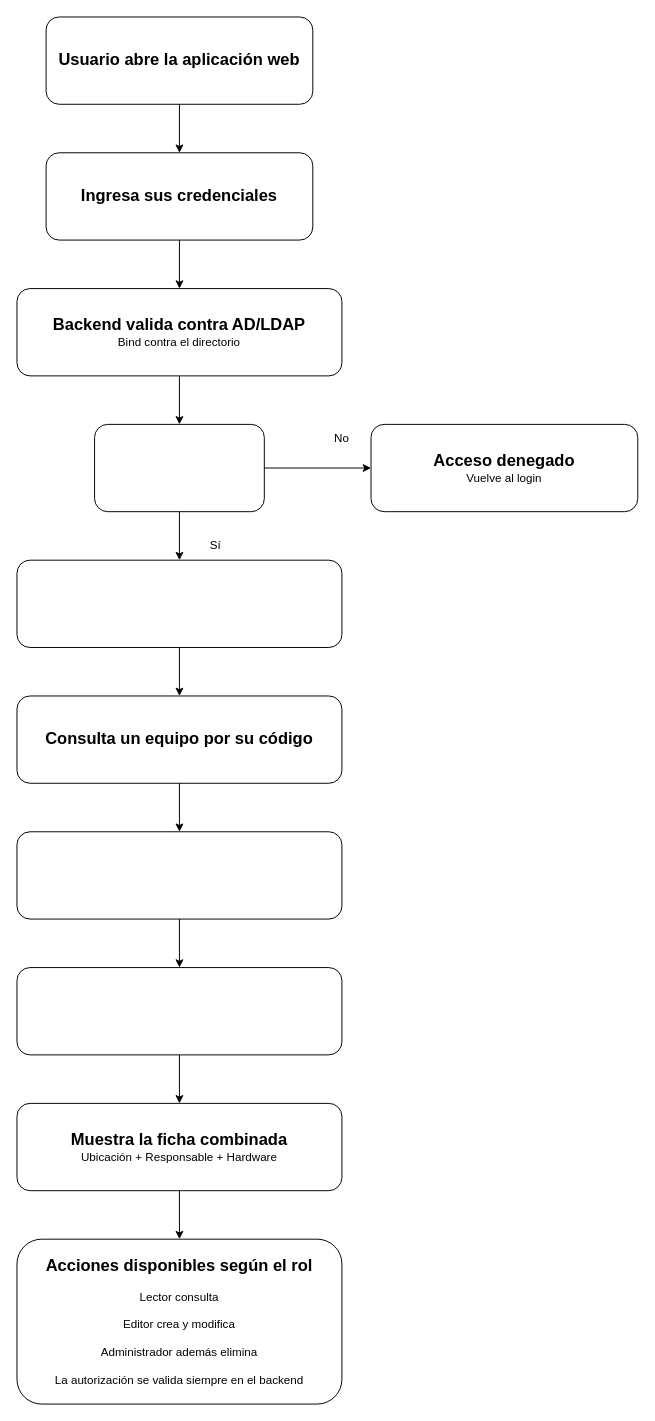
Some shapes in this 655 by 1421 pixel diagram are drawn without their labels. Each missing label, with the centre of its shape:
Backend consulta MongoDB Obtiene el hardware por código: pixel 179 1011
Backend consulta SQL Server Obtiene ubicación y responsable: pixel 179 875
Emite token con el rol Rol derivado del grupo del usuario: pixel 179 603
¿Login válido?: pixel 179 467
